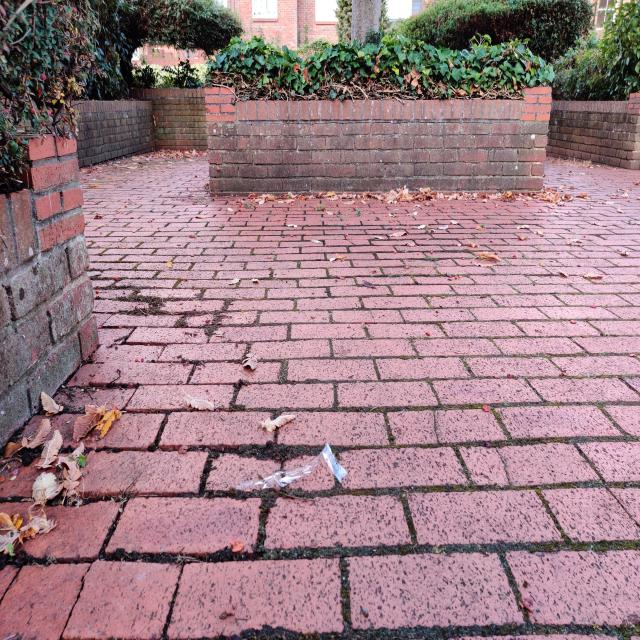litter: (235, 441, 349, 492)
